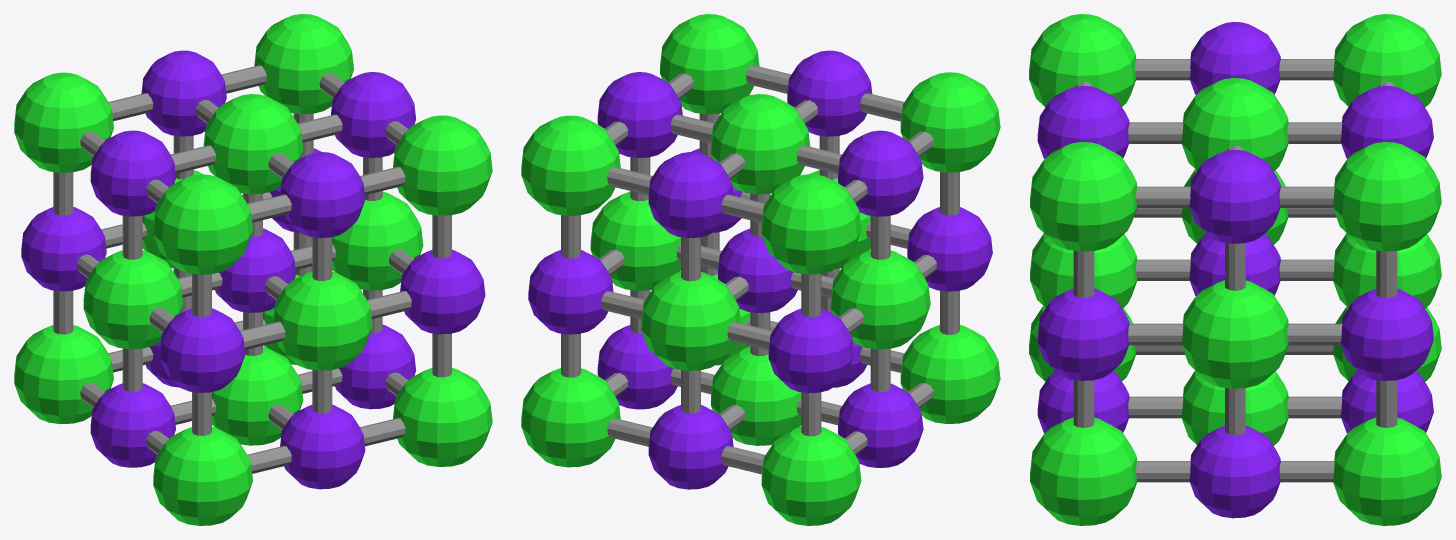
The model's file is NaCl.FBX.
3 views of the same model, side by side, from view 1: azimuth 30°, elevation 25°; view 2: azimuth 150°, elevation 25°; view 3: azimuth 270°, elevation 25° (orthographic). The views are drawn at different scales.
Parts seen in each view (by area): view 1: Sphere023, Sphere005, Sphere029, Sphere011, Sphere019, Sphere022, Sphere012, Sphere004, Sphere028, Sphere026, Sphere014, Sphere008 (+32 smaller); view 2: Sphere022, Sphere004, Sphere028, Sphere010, Sphere016, Sphere023, Sphere012, Sphere005, Sphere029, Sphere026, Sphere014, Sphere008 (+32 smaller); view 3: Sphere028, Sphere029, Sphere010, Sphere011, Sphere014, Sphere022, Sphere026, Sphere023, Sphere027, Sphere017, Sphere020, Sphere009 (+34 smaller).
Boxes of the visible parts, <box> form: Sphere023: <box>153,174,252,274</box>; Sphere005: <box>153,427,252,525</box>; Sphere029: <box>393,115,492,215</box>; Sphere011: <box>393,368,492,466</box>; Sphere019: <box>273,271,372,370</box>; Sphere022: <box>14,72,113,172</box>; Sphere012: <box>83,250,183,349</box>; Sphere004: <box>14,325,113,424</box>; Sphere028: <box>254,14,353,114</box>; Sphere026: <box>203,94,303,194</box>; Sphere014: <box>332,191,423,290</box>; Sphere008: <box>212,346,303,445</box>; Sphere022: <box>761,174,861,274</box>; Sphere004: <box>761,426,861,525</box>; Sphere028: <box>521,115,620,215</box>; Sphere010: <box>521,368,620,467</box>; Sphere016: <box>641,271,740,370</box>; Sphere023: <box>900,72,1000,172</box>; Sphere012: <box>831,250,930,349</box>; Sphere005: <box>900,325,1000,423</box>; Sphere029: <box>660,14,759,114</box>; Sphere026: <box>711,94,810,194</box>; Sphere014: <box>590,191,680,290</box>; Sphere008: <box>711,346,801,445</box>; Sphere028: <box>1333,142,1441,251</box>; Sphere029: <box>1030,142,1137,251</box>; Sphere010: <box>1333,417,1441,525</box>; Sphere011: <box>1030,417,1137,525</box>; Sphere014: <box>1181,280,1288,388</box>; Sphere022: <box>1333,14,1441,107</box>; Sphere026: <box>1181,78,1288,171</box>; Sphere023: <box>1029,14,1136,107</box>; Sphere027: <box>1189,150,1280,243</box>; Sphere017: <box>1340,288,1433,380</box>; Sphere020: <box>1037,288,1129,380</box>; Sphere009: <box>1189,425,1280,518</box>.
Bounding box in the file's own units: 218 × 219 × 218.
